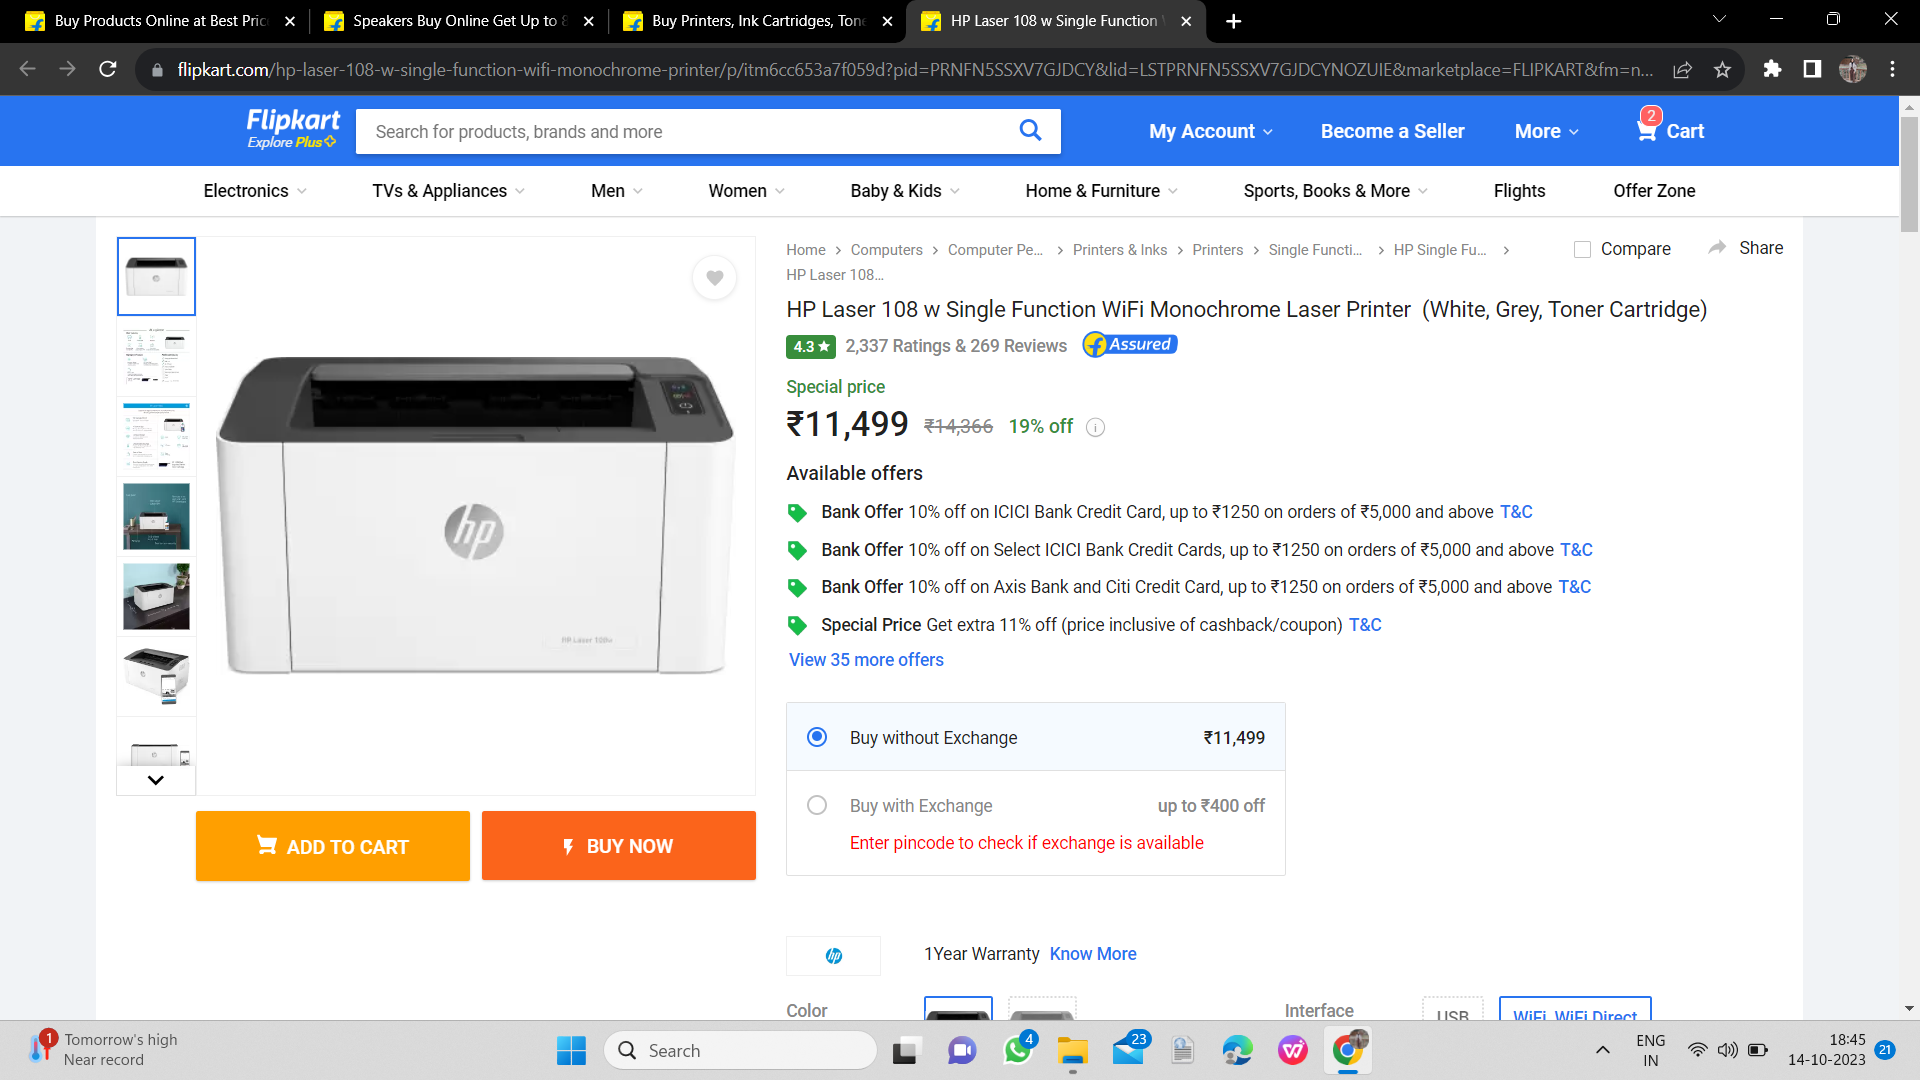Image: (214, 241, 756, 729), (774, 712, 1276, 880), (351, 94, 1092, 162)
Paragraph: (777, 462, 1604, 667), (186, 798, 760, 899), (773, 289, 1706, 323), (1135, 104, 1706, 152), (777, 373, 1116, 451), (767, 323, 1197, 360), (810, 927, 1038, 972)
